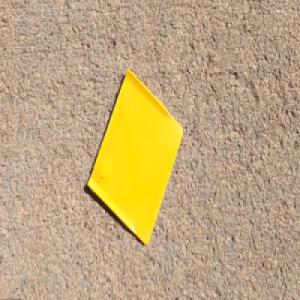PlasticPart: (86, 66, 184, 246)
